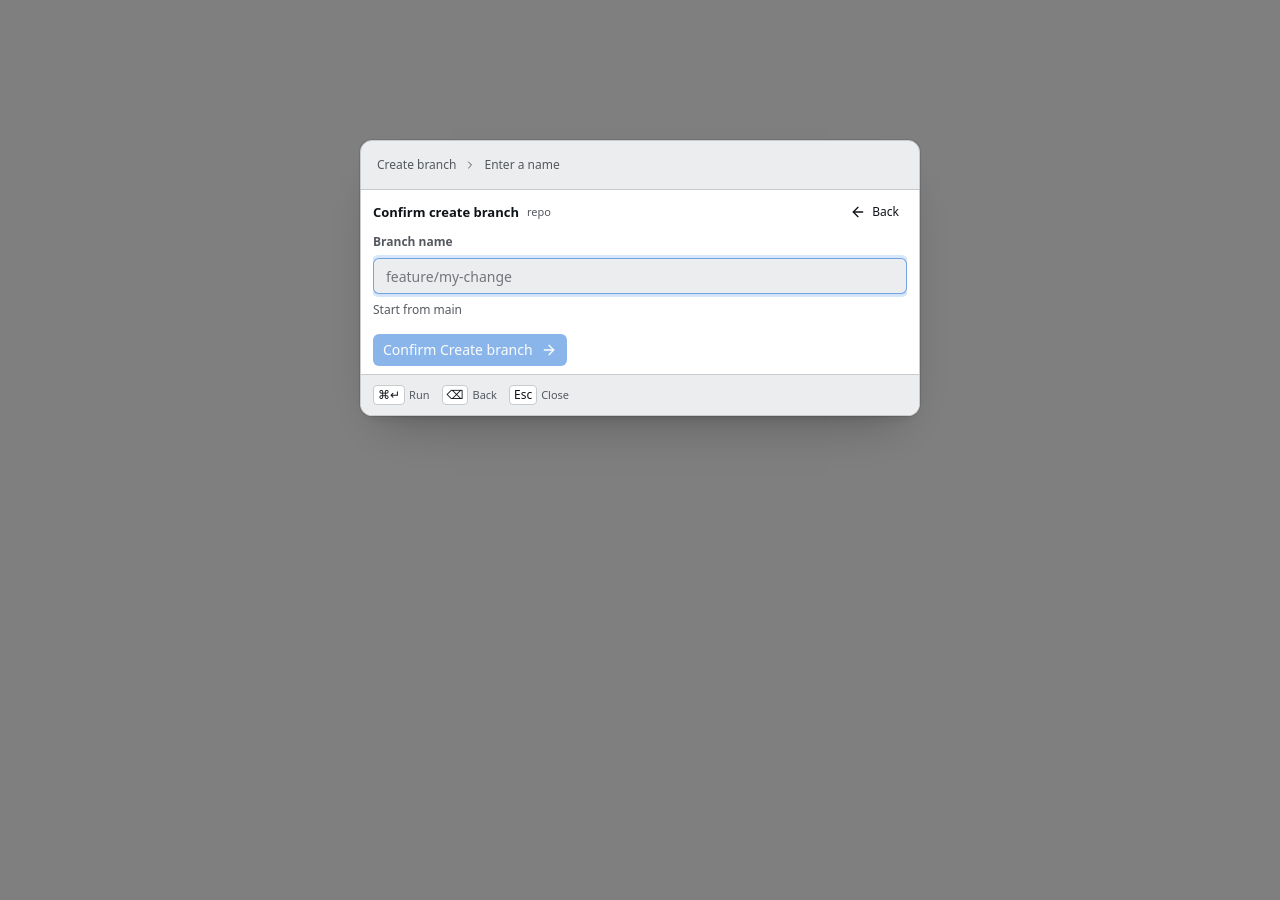
AppCommandPalette › Left returns from branch-name review with draft
Clear the field labelled "Branch name" at (640, 276), box [373,258,907,294]
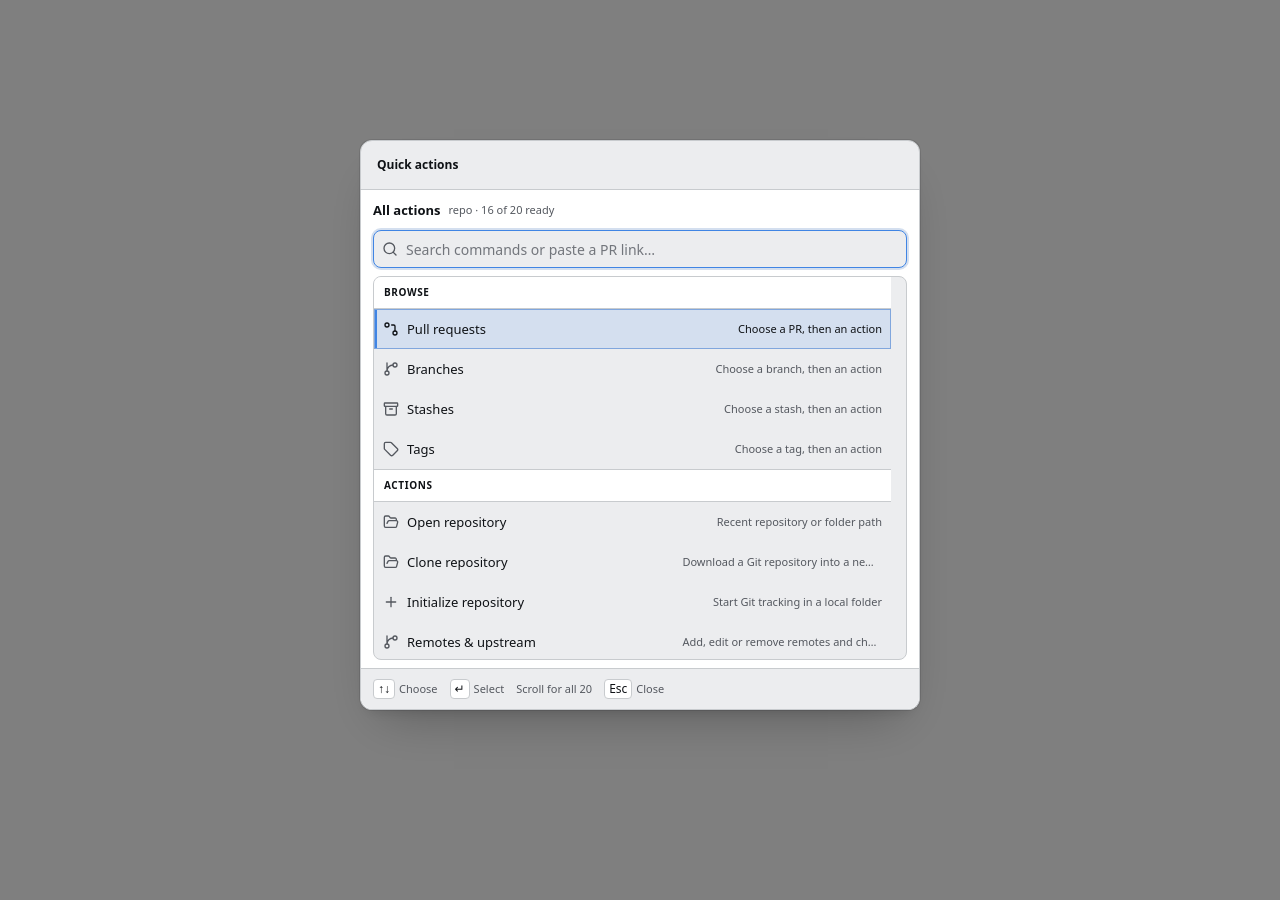
Now the element named "Actions" is shown, box [373,276,907,660]
